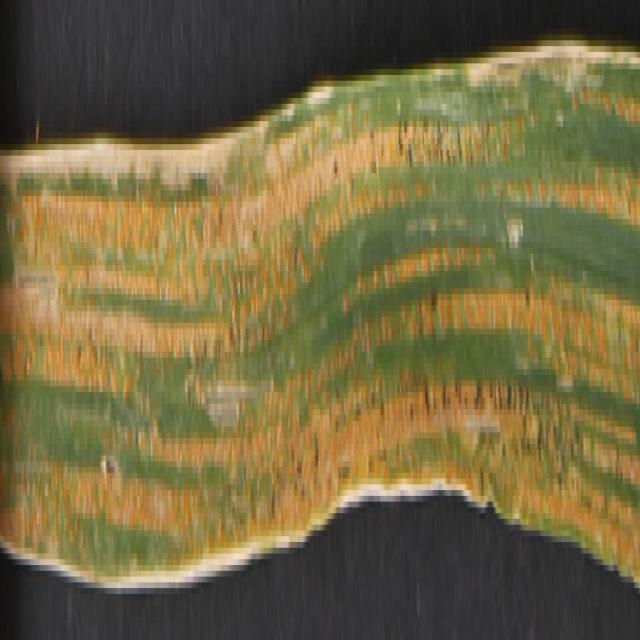leaf rust: (1, 69, 639, 571)
